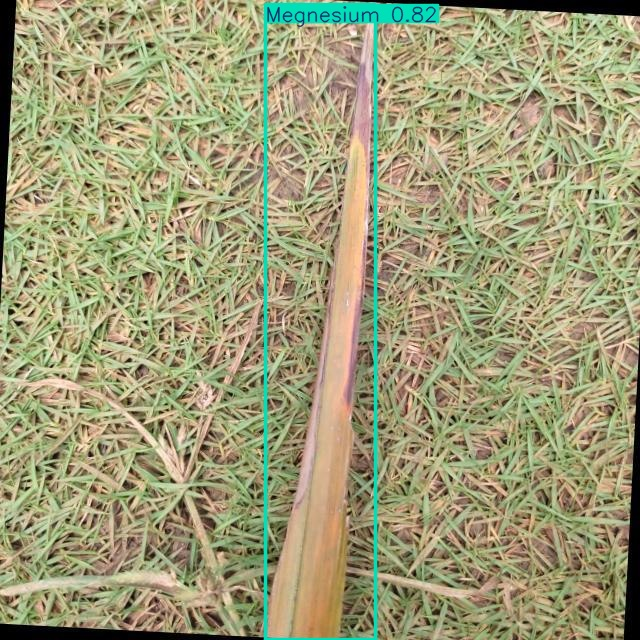Megnesium: (265, 4, 376, 639)
